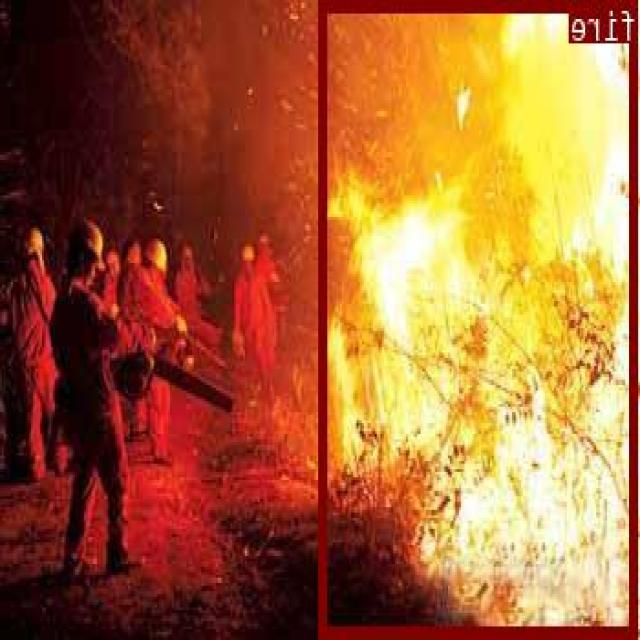fire: (322, 0, 640, 635)
